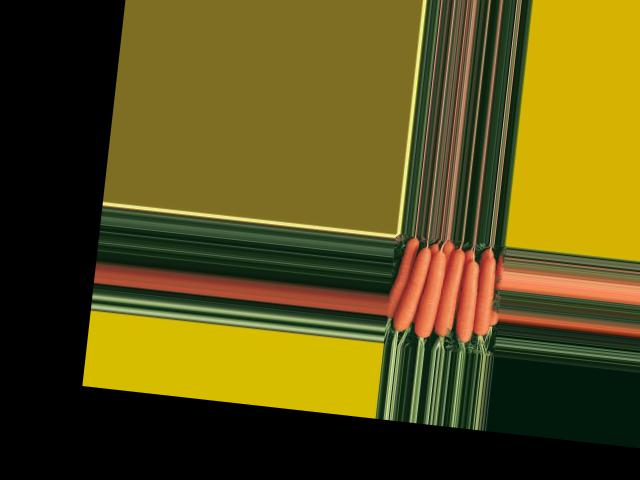carrot: (385, 237, 421, 323)
